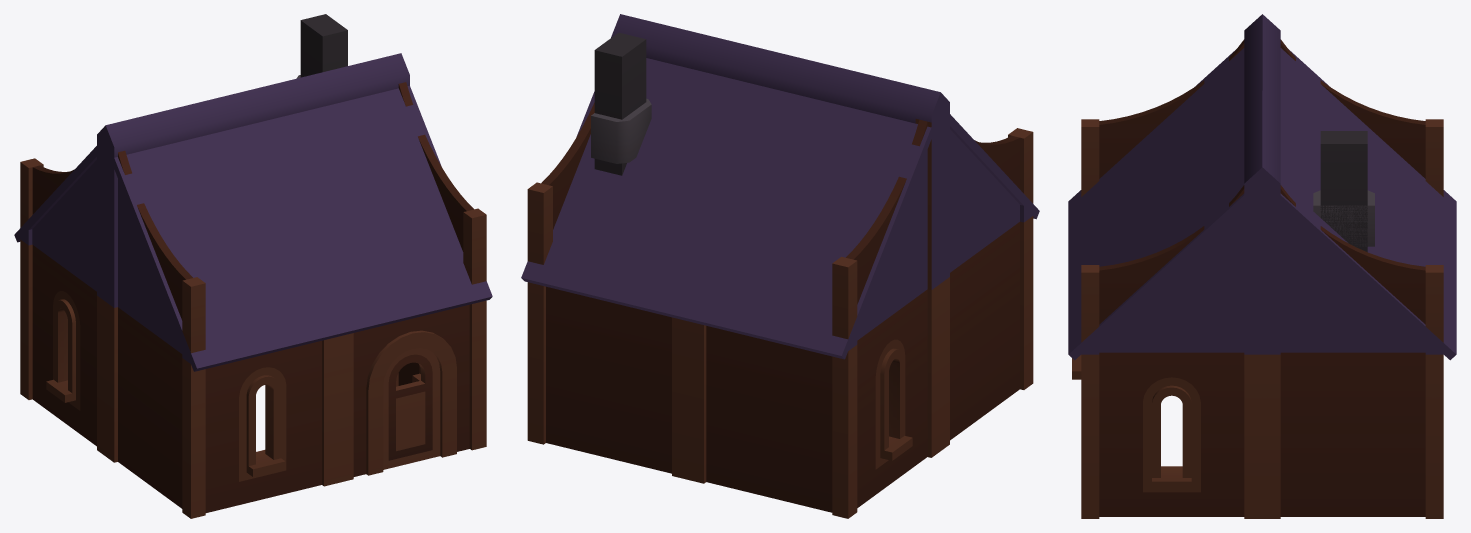
The model's file is hutte-sorciere-2.glb.
The picture shows the model from 3 angles, left to right: view 1: azimuth 30°, elevation 25°; view 2: azimuth 150°, elevation 25°; view 3: azimuth 270°, elevation 25°; orthographic projection. The views are drawn at different scales.
Visible parts, largest first — view 1: roof-high, wall-wood-window-round; view 2: wall-wood-window-round, roof-high; view 3: wall-wood-window-round, roof-high.
Boxes of the visible parts, box(x1,y1,x2,y2) form: roof-high: box(14, 53, 492, 371); wall-wood-window-round: box(20, 14, 486, 518); wall-wood-window-round: box(527, 32, 1033, 518); roof-high: box(521, 14, 1039, 359); wall-wood-window-round: box(1072, 39, 1443, 518); roof-high: box(1068, 14, 1456, 360).
Size of the model in its own units: 6.3 by 6.6 by 6.42.
Materials: 2 (1 with a texture image).
